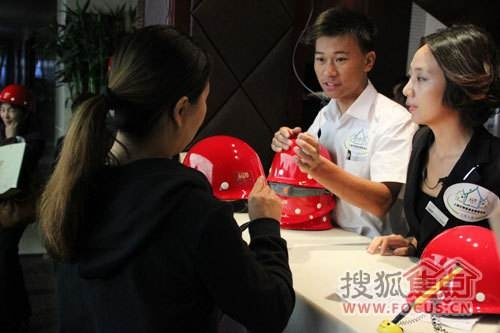none: (100, 25, 211, 156), (401, 21, 492, 130), (310, 10, 378, 103)
red: (1, 84, 28, 131)
